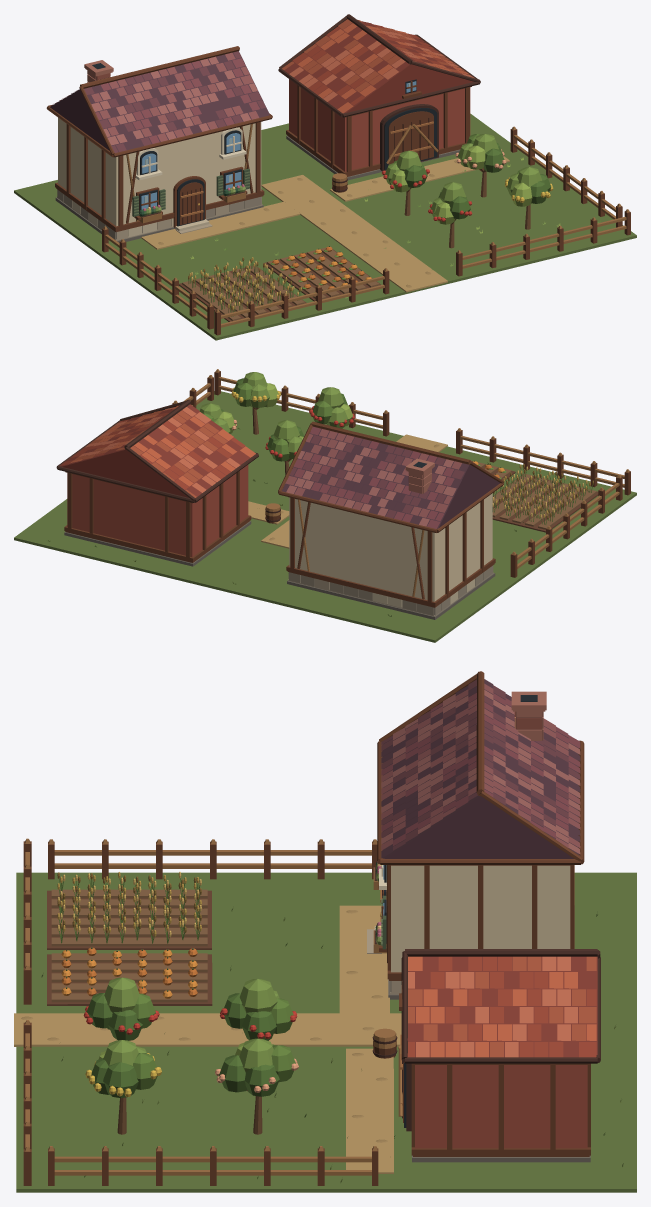
Rendered from farm-nivel-3.glb.
3 views of the same model, one above another, from view 1: azimuth 30°, elevation 25°; view 2: azimuth 150°, elevation 25°; view 3: azimuth 270°, elevation 25° (orthographic). The views are drawn at different scales.
Parts seen in each view (by area): view 1: Fazenda 03 #677a42, Fazenda 03 #70432c, Fazenda 03 #bc9a64, Fazenda 03 #dbc8a4, Fazenda 03 #593b44, Fazenda 03 #9f7145, Fazenda 03 #a45343, Fazenda 03 #853e33, Fazenda 03 #886345, Fazenda 03 #4c3028, Fazenda 03 #8f5655, Fazenda 03 #9e645f (+23 smaller); view 2: Fazenda 03 #677a42, Fazenda 03 #dbc8a4, Fazenda 03 #70432c, Fazenda 03 #a45343, Fazenda 03 #593b44, Fazenda 03 #853e33, Fazenda 03 #9f7145, Fazenda 03 #886345, Fazenda 03 #8f5655, Fazenda 03 #7a9448, Fazenda 03 #65823d, Fazenda 03 #4c3028 (+18 smaller); view 3: Fazenda 03 #677a42, Fazenda 03 #bc9a64, Fazenda 03 #70432c, Fazenda 03 #593b44, Fazenda 03 #dbc8a4, Fazenda 03 #a45343, Fazenda 03 #886345, Fazenda 03 #9f7145, Fazenda 03 #853e33, Fazenda 03 #567337, Fazenda 03 #9b4735, Fazenda 03 #8f5655 (+17 smaller).
Boxes of the visible parts, x1,y1,x2,y2 form: Fazenda 03 #677a42: (14, 113, 636, 340); Fazenda 03 #70432c: (46, 46, 630, 335); Fazenda 03 #bc9a64: (141, 156, 509, 292); Fazenda 03 #dbc8a4: (58, 117, 261, 226); Fazenda 03 #593b44: (50, 51, 269, 151); Fazenda 03 #9f7145: (103, 124, 629, 327); Fazenda 03 #a45343: (289, 79, 470, 171); Fazenda 03 #853e33: (284, 21, 473, 113); Fazenda 03 #886345: (182, 247, 379, 320); Fazenda 03 #4c3028: (142, 14, 480, 224); Fazenda 03 #8f5655: (58, 52, 259, 141); Fazenda 03 #9e645f: (66, 56, 257, 145); Fazenda 03 #677a42: (14, 391, 636, 642); Fazenda 03 #dbc8a4: (289, 493, 492, 601); Fazenda 03 #70432c: (64, 371, 630, 607); Fazenda 03 #a45343: (67, 465, 248, 556); Fazenda 03 #593b44: (282, 429, 499, 528); Fazenda 03 #853e33: (61, 404, 250, 497); Fazenda 03 #9f7145: (173, 369, 629, 597); Fazenda 03 #886345: (470, 460, 596, 529); Fazenda 03 #8f5655: (285, 429, 461, 517); Fazenda 03 #7a9448: (48, 372, 516, 541); Fazenda 03 #65823d: (94, 383, 592, 616); Fazenda 03 #4c3028: (56, 399, 280, 521); Fazenda 03 #677a42: (16, 872, 636, 1192); Fazenda 03 #bc9a64: (14, 905, 401, 1173); Fazenda 03 #70432c: (23, 671, 590, 1185); Fazenda 03 #593b44: (381, 679, 580, 858); Fazenda 03 #dbc8a4: (391, 865, 570, 972); Fazenda 03 #a45343: (415, 1065, 587, 1148); Fazenda 03 #886345: (51, 889, 207, 1002); Fazenda 03 #9f7145: (25, 838, 574, 1175); Fazenda 03 #853e33: (407, 956, 597, 1057); Fazenda 03 #567337: (86, 993, 279, 1097); Fazenda 03 #9b4735: (407, 956, 596, 1057); Fazenda 03 #8f5655: (381, 683, 580, 850).
Bounding box in the file's own units: 17.81 × 5.72 × 14.84.
